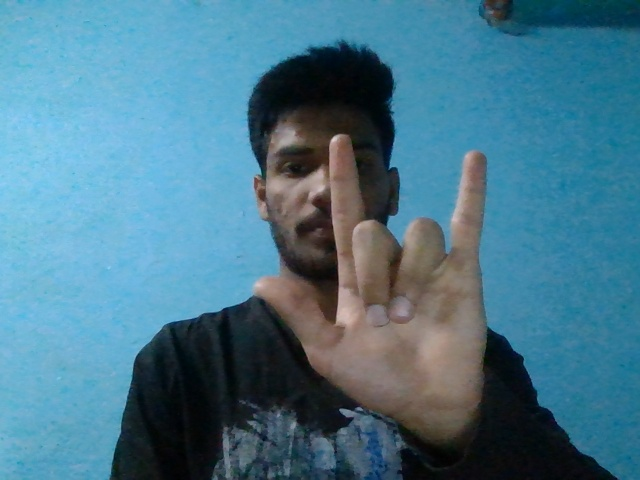I Love You: (252, 134, 488, 411)
